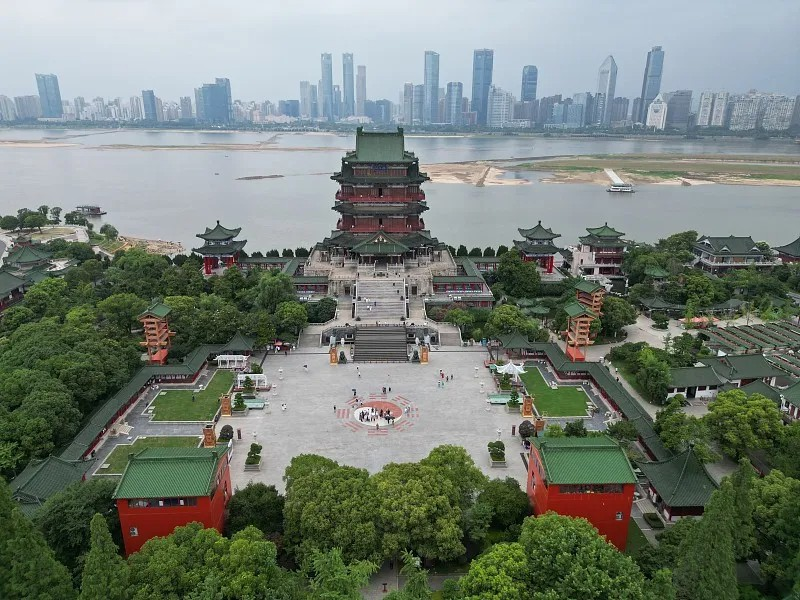Teng: (313, 126, 446, 264)
